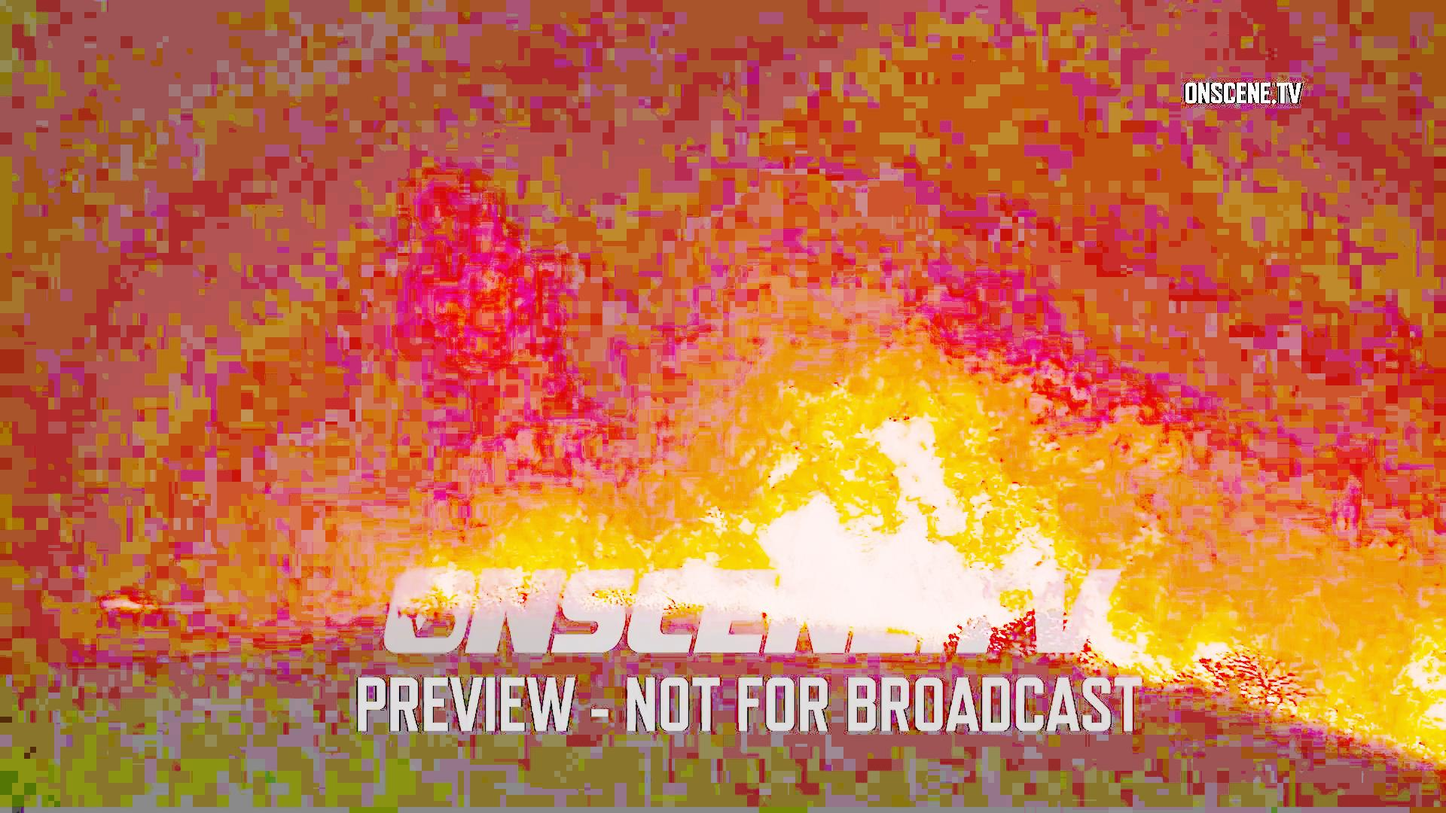fire: (787, 490, 998, 637)
